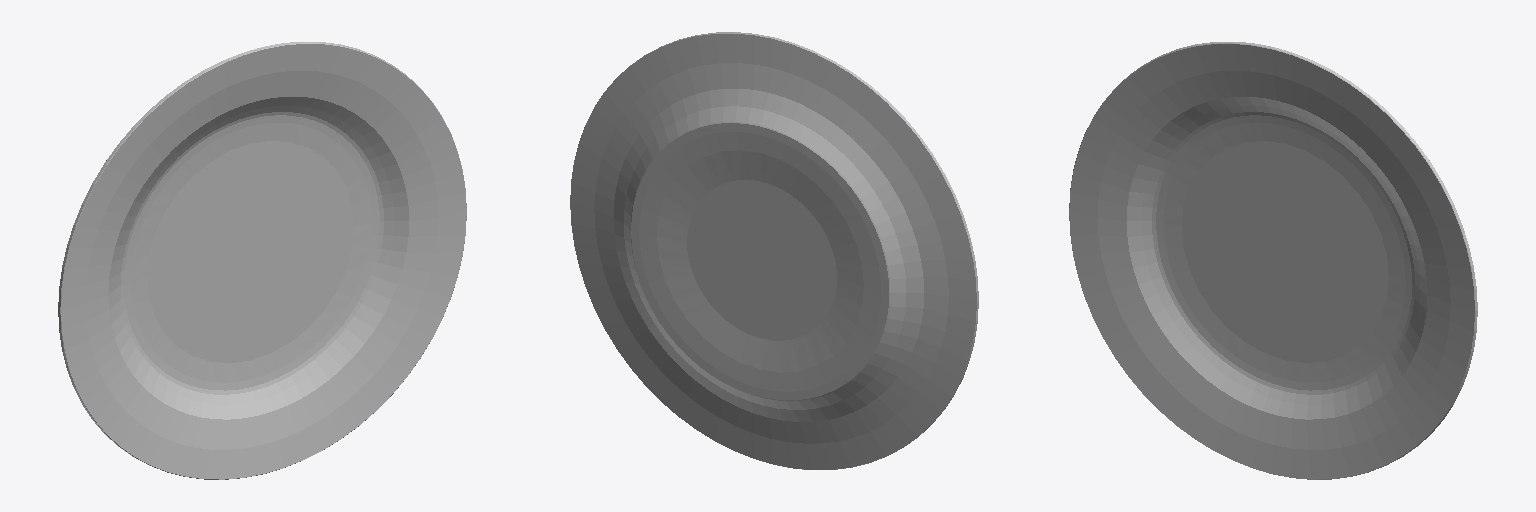
Rendered from plate.obj.
3 renders of one model, left to right at view 1: azimuth 30°, elevation 25°; view 2: azimuth 150°, elevation 25°; view 3: azimuth 330°, elevation 25°, orthographic.
Bounding box in the file's own units: 0.5997 × 0.5997 × 0.0399.